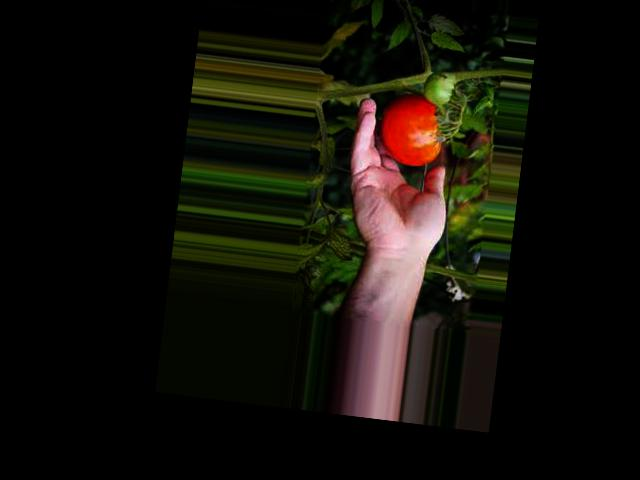tomato: (376, 89, 448, 170)
